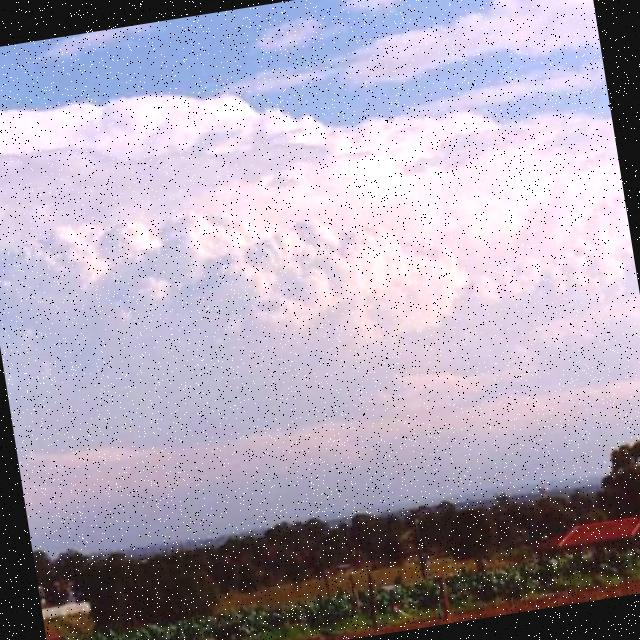St: (1, 1, 640, 491)
